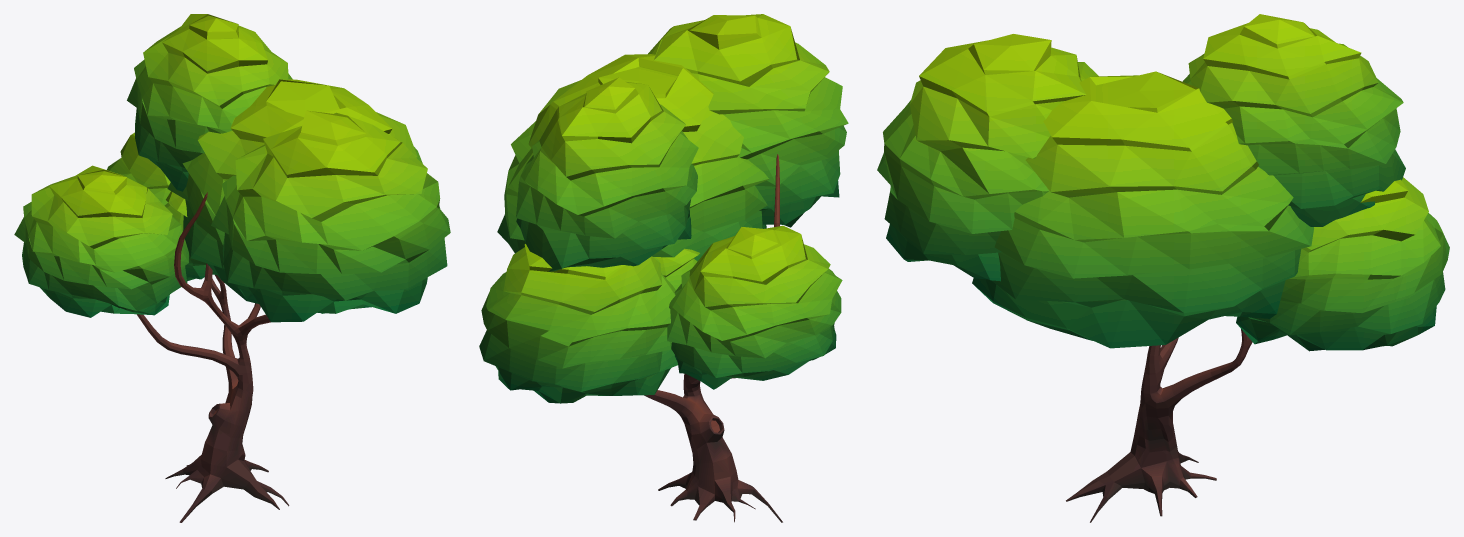
File: tree_savannah02_lush_mod_01.fbx
3 renders of one model, left to right at view 1: azimuth 30°, elevation 25°; view 2: azimuth 150°, elevation 25°; view 3: azimuth 270°, elevation 25°, orthographic. The views are drawn at different scales.
Parts seen in each view (by area): view 1: leaves02, tree02; view 2: leaves02, tree02; view 3: leaves02, tree02.
Boxes of the visible parts, x1,y1,x2,y2 form: leaves02: (14, 14, 450, 322); tree02: (137, 192, 289, 522); leaves02: (479, 14, 848, 403); tree02: (644, 154, 782, 522); leaves02: (877, 14, 1449, 351); tree02: (1066, 329, 1252, 522).
Bounding box in the file's own units: 5.95 × 7.49 × 7.42.
